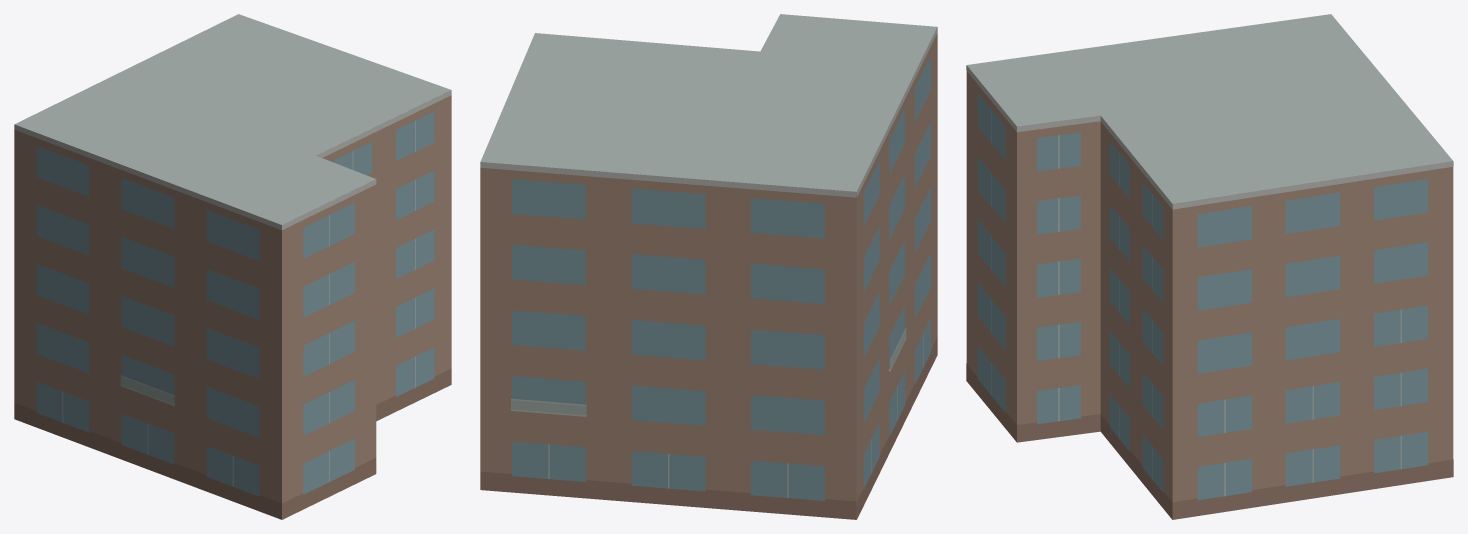
Rendered from survey-upis-32783096.glb.
3 renders of one model, left to right at view 1: azimuth 30°, elevation 25°; view 2: azimuth 150°, elevation 25°; view 3: azimuth 270°, elevation 25°, orthographic. The views are drawn at different scales.
Parts seen in each view (by area): view 1: survey-upis-32783096.tmp; view 2: survey-upis-32783096.tmp; view 3: survey-upis-32783096.tmp.
Part boxes in pixels (x1,y1,x2,y2): survey-upis-32783096.tmp: (14, 14, 451, 519); survey-upis-32783096.tmp: (480, 14, 937, 519); survey-upis-32783096.tmp: (966, 14, 1453, 519).
Bounding box in the file's own units: 17.81 × 13.8 × 19.29.
